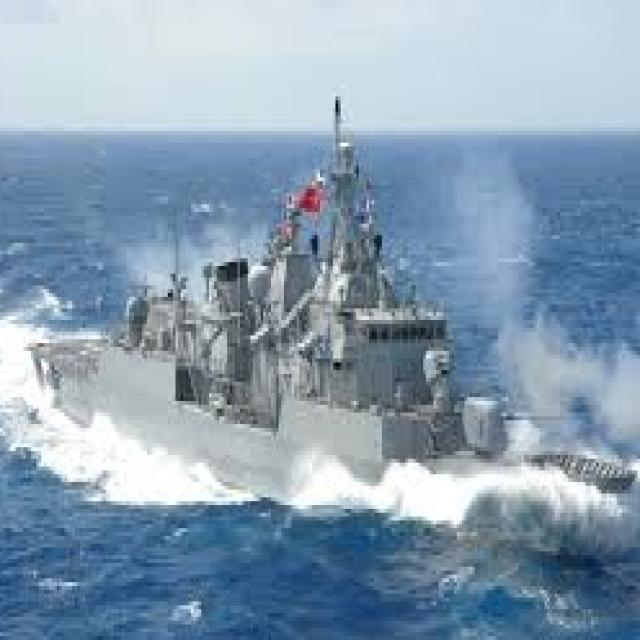navalvessels: (20, 89, 638, 582)
